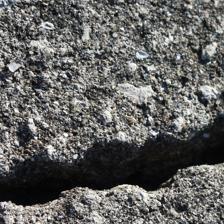Crack: (3, 57, 216, 159)
